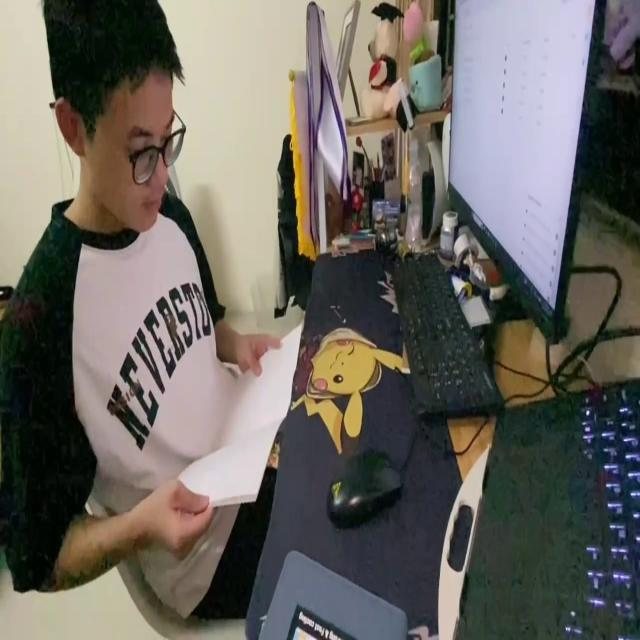book: (171, 322, 304, 510)
laptop: (446, 2, 607, 346), (441, 393, 640, 640)
student: (0, 0, 281, 620)
